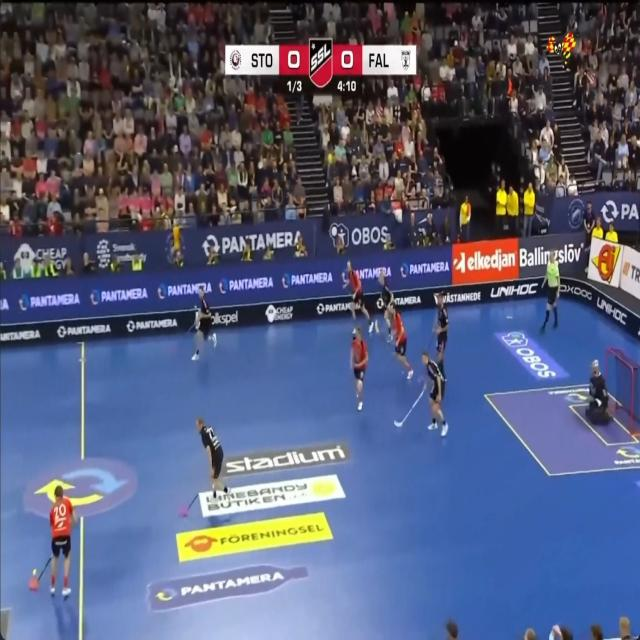Balls: (32, 569, 36, 575)
player: (50, 485, 76, 597), (197, 417, 227, 497), (422, 350, 448, 436), (343, 261, 373, 333), (390, 304, 413, 379), (541, 250, 560, 331), (192, 287, 212, 360), (351, 328, 368, 410), (434, 292, 448, 376), (379, 271, 394, 339), (375, 320, 379, 333), (211, 333, 216, 341)
stick: (394, 391, 423, 426), (29, 556, 52, 590), (179, 494, 199, 517), (38, 556, 52, 580), (186, 307, 198, 333), (426, 331, 435, 352)
